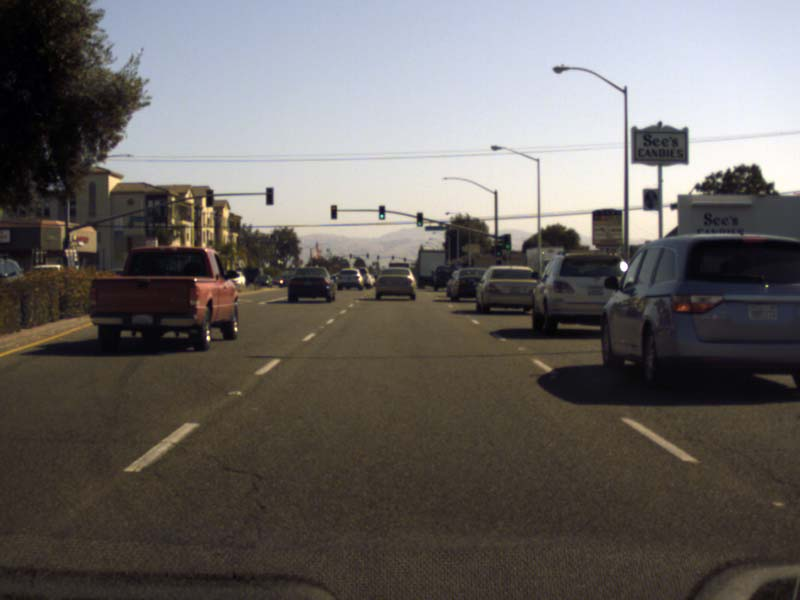Green: (415, 211, 423, 227), (504, 233, 510, 250), (378, 205, 384, 220), (495, 245, 501, 257)
Red: (330, 205, 337, 219)
